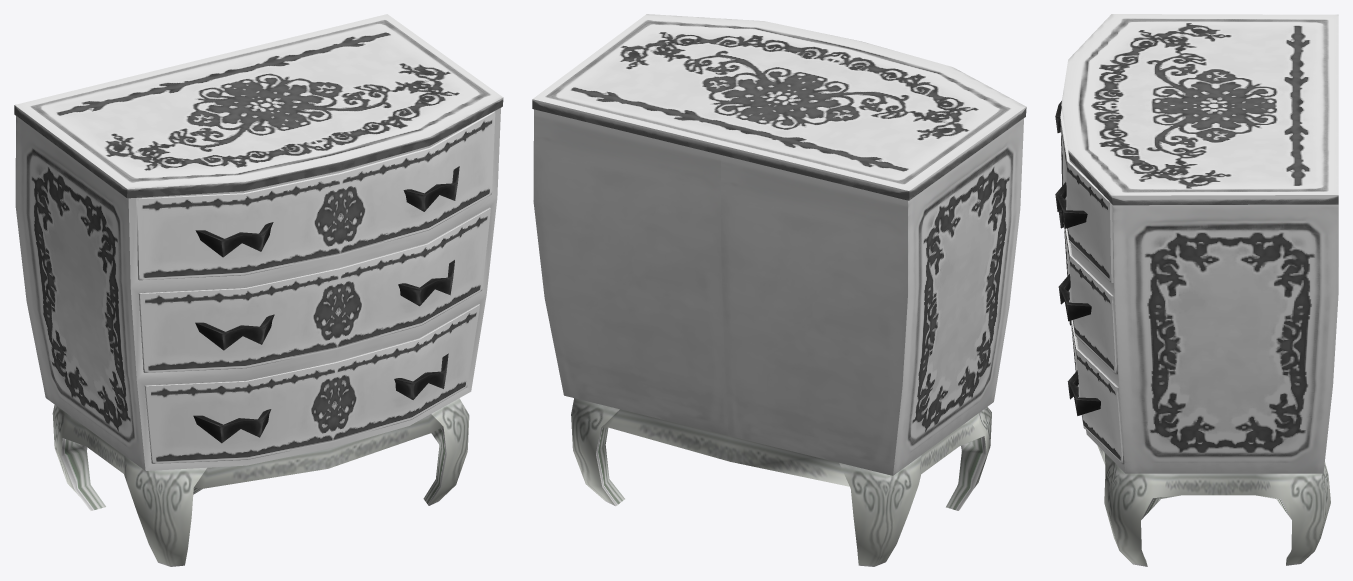
File: NienteChest_HD.fbx
The picture shows the model from 3 angles, left to right: view 1: azimuth 30°, elevation 25°; view 2: azimuth 150°, elevation 25°; view 3: azimuth 270°, elevation 25°; orthographic projection. The views are drawn at different scales.
Parts seen in each view (by area): view 1: NienteChest; view 2: NienteChest; view 3: NienteChest.
Part boxes in pixels (x1=…): NienteChest: x1=14, y1=14, x2=503, y2=566; NienteChest: x1=532, y1=14, x2=1026, y2=566; NienteChest: x1=1055, y1=14, x2=1338, y2=566.
Bounding box in the file's own units: 0.9702 × 0.9833 × 0.6393.
